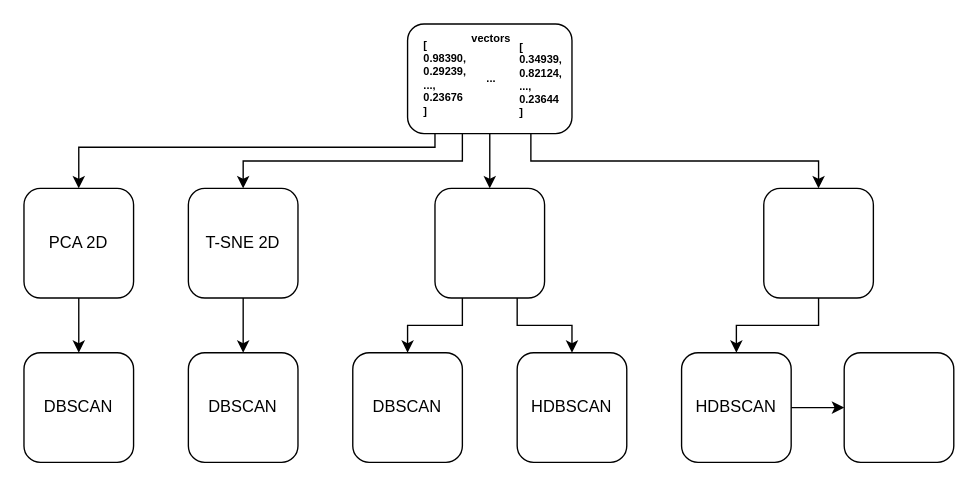
Image size: 978x486. Some labels were removed from this diagram. The shapes that lost their labels are listed below. From the top down, each one's centre as x and y in pixels, then its label:
At [489,242]: "UMAP 2D".
At [817,242]: "UMAP 3D".
At [898,406]: "Agglomerative Clustering".
